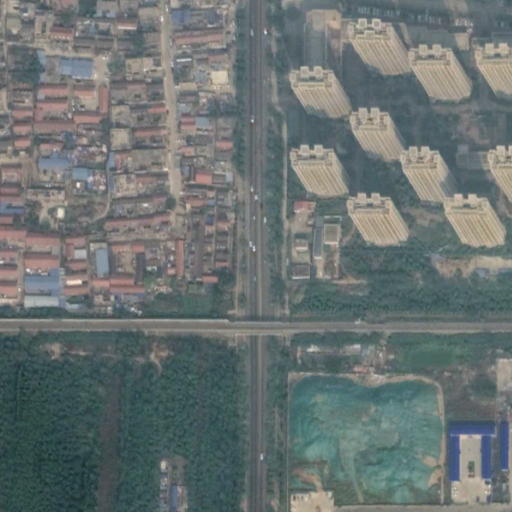cw: (288, 372, 446, 504)
